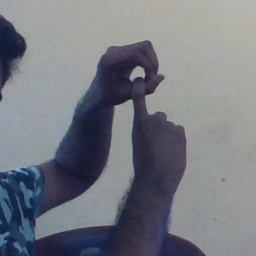Q: (80, 37, 193, 167)
